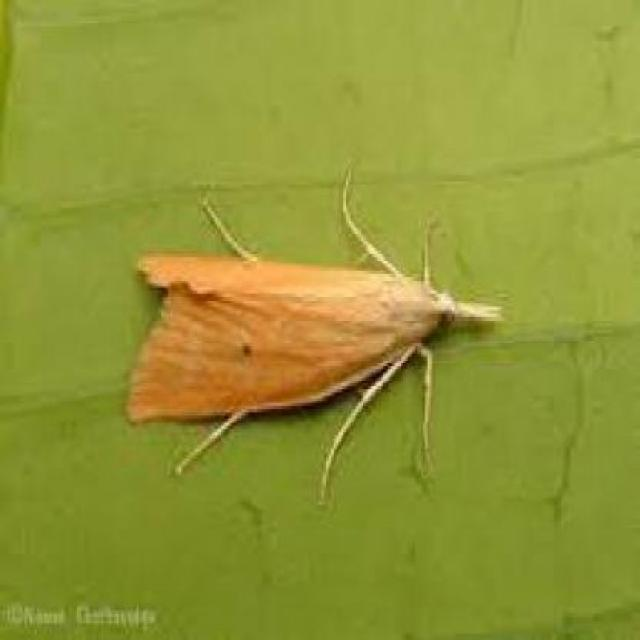stem-borer: (126, 157, 508, 506)
